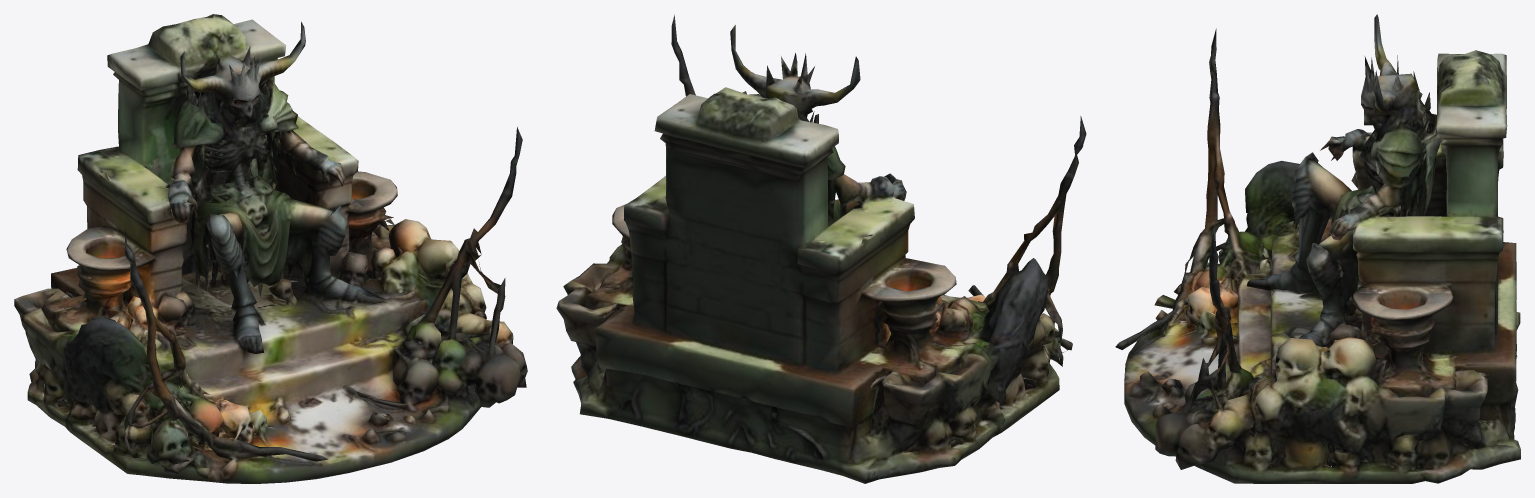
The model's file is Undead Throne_final.glb.
3 renders of one model, left to right at view 1: azimuth 30°, elevation 25°; view 2: azimuth 150°, elevation 25°; view 3: azimuth 270°, elevation 25°, orthographic. The views are drawn at different scales.
Parts seen in each view (by area): view 1: Mesh1.0; view 2: Mesh1.0; view 3: Mesh1.0.
Boxes of the visible parts, x1=… form: Mesh1.0: x1=14, y1=14, x2=527, y2=483; Mesh1.0: x1=556, y1=14, x2=1086, y2=483; Mesh1.0: x1=1115, y1=14, x2=1520, y2=483.
Size of the model in its own units: 1.91 by 1.58 by 1.65.
Materials: 1 (1 with a texture image).
